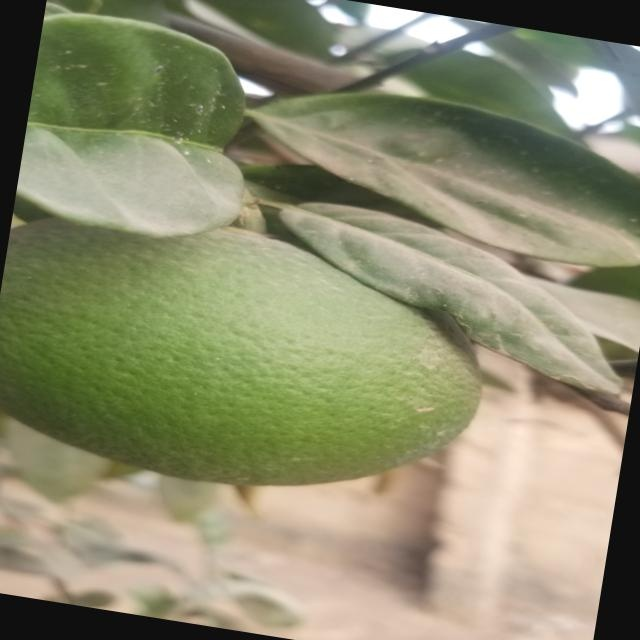agrume: (0, 197, 503, 517)
